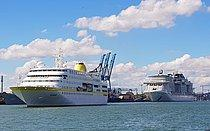Ship: (8, 56, 115, 111), (141, 65, 203, 106)
